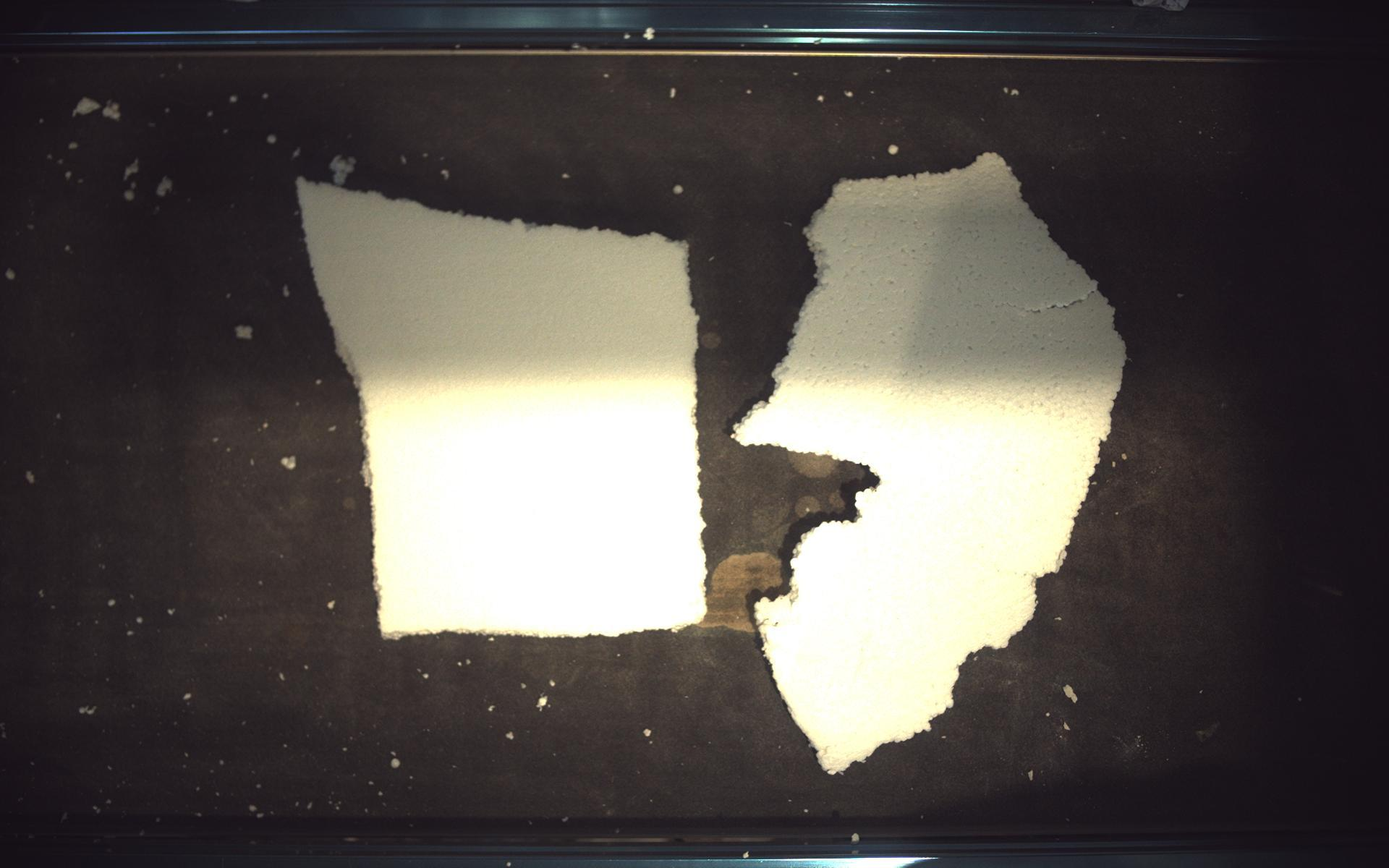foam: (736, 153, 1128, 774), (298, 177, 707, 639)
